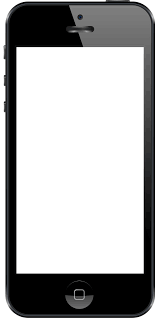phone: (2, 1, 157, 318)
